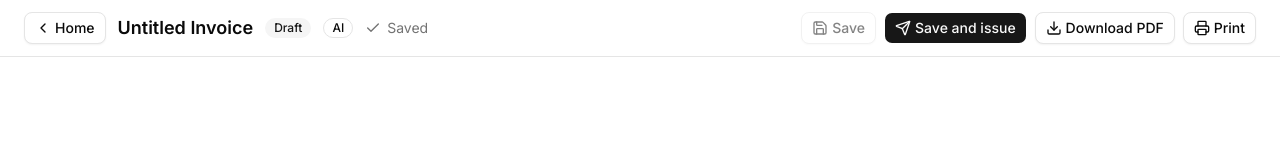
Scenario: editor header (AC-23) › names the Personal key in the tooltip
Hover over the icon "AI" at (338, 28), box [323,18,353,38]
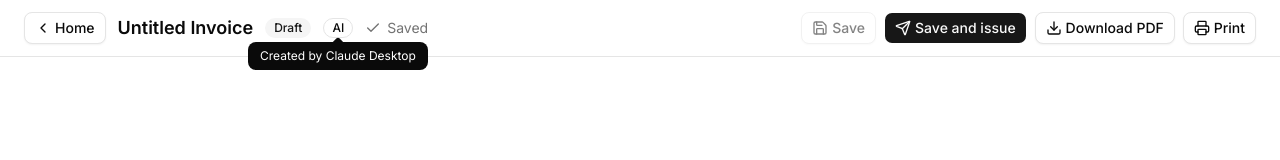
Now the text "Created by Claude Desktop" is shown, box [248,42,428,70]
